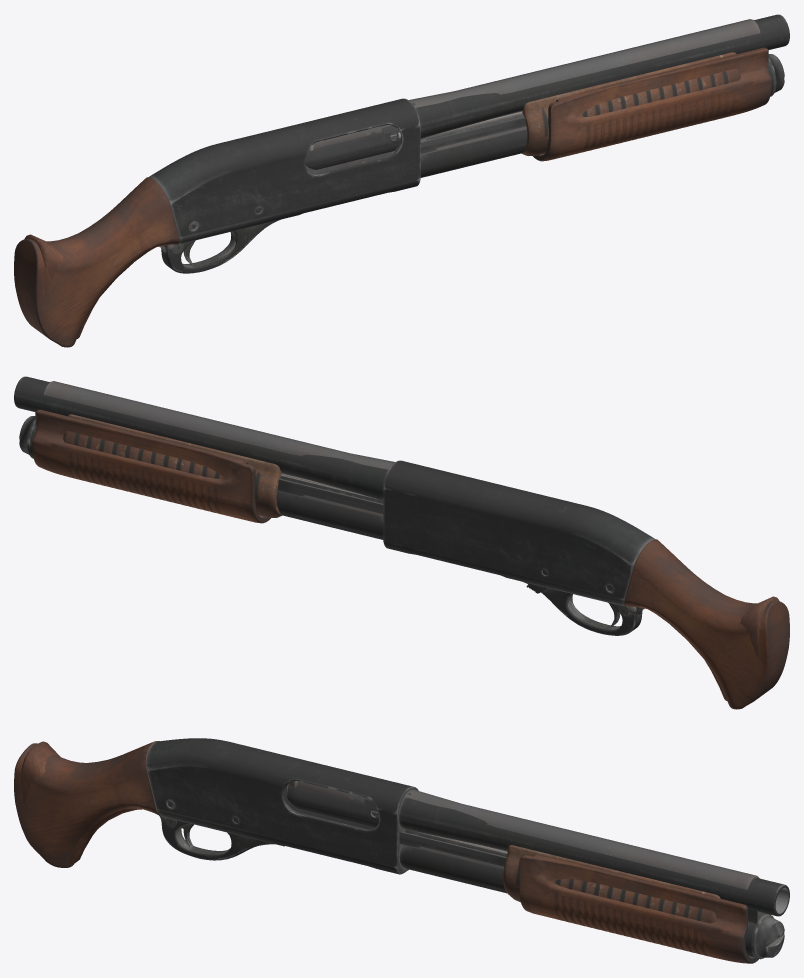
Rendered from weapon_sawedoff.glb.
3 views of the same model, one above another, from view 1: azimuth 30°, elevation 25°; view 2: azimuth 150°, elevation 25°; view 3: azimuth 330°, elevation 25° (orthographic).
Parts seen in each view (by area): view 1: weapons/models/sawedoff/weapon_shot_sawedoff.vmdl_c.body_hd, weapons/models/sawedoff/weapon_shot_sawedoff.vmdl_c.body_leg; view 2: weapons/models/sawedoff/weapon_shot_sawedoff.vmdl_c.body_hd, weapons/models/sawedoff/weapon_shot_sawedoff.vmdl_c.body_leg; view 3: weapons/models/sawedoff/weapon_shot_sawedoff.vmdl_c.body_hd, weapons/models/sawedoff/weapon_shot_sawedoff.vmdl_c.body_leg.
Boxes of the visible parts, x1,y1,x2,y2 form: weapons/models/sawedoff/weapon_shot_sawedoff.vmdl_c.body_hd: [14, 14, 789, 347]; weapons/models/sawedoff/weapon_shot_sawedoff.vmdl_c.body_leg: [24, 19, 760, 338]; weapons/models/sawedoff/weapon_shot_sawedoff.vmdl_c.body_hd: [14, 376, 789, 709]; weapons/models/sawedoff/weapon_shot_sawedoff.vmdl_c.body_leg: [43, 381, 779, 700]; weapons/models/sawedoff/weapon_shot_sawedoff.vmdl_c.body_hd: [14, 738, 789, 963]; weapons/models/sawedoff/weapon_shot_sawedoff.vmdl_c.body_leg: [21, 741, 759, 923].
Bounding box in the file's own units: 26.27 × 5.31 × 1.94.
3 materials, 3 textured.
